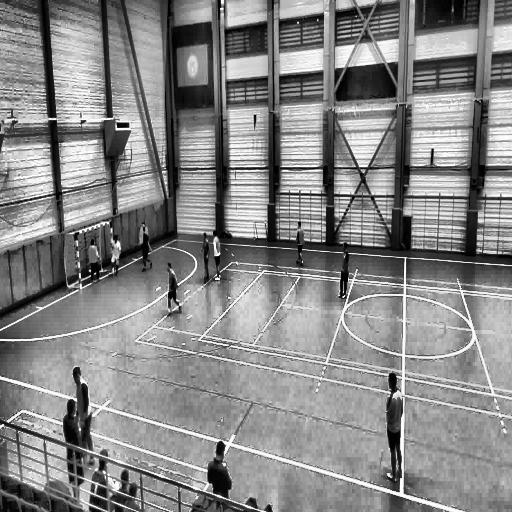ball: (88, 268, 93, 275)
player: (386, 371, 404, 485), (74, 368, 94, 463), (166, 262, 182, 314), (139, 222, 151, 272), (200, 232, 211, 284), (339, 242, 349, 298), (89, 238, 101, 283), (212, 231, 221, 282), (112, 234, 122, 276), (296, 221, 304, 268)
